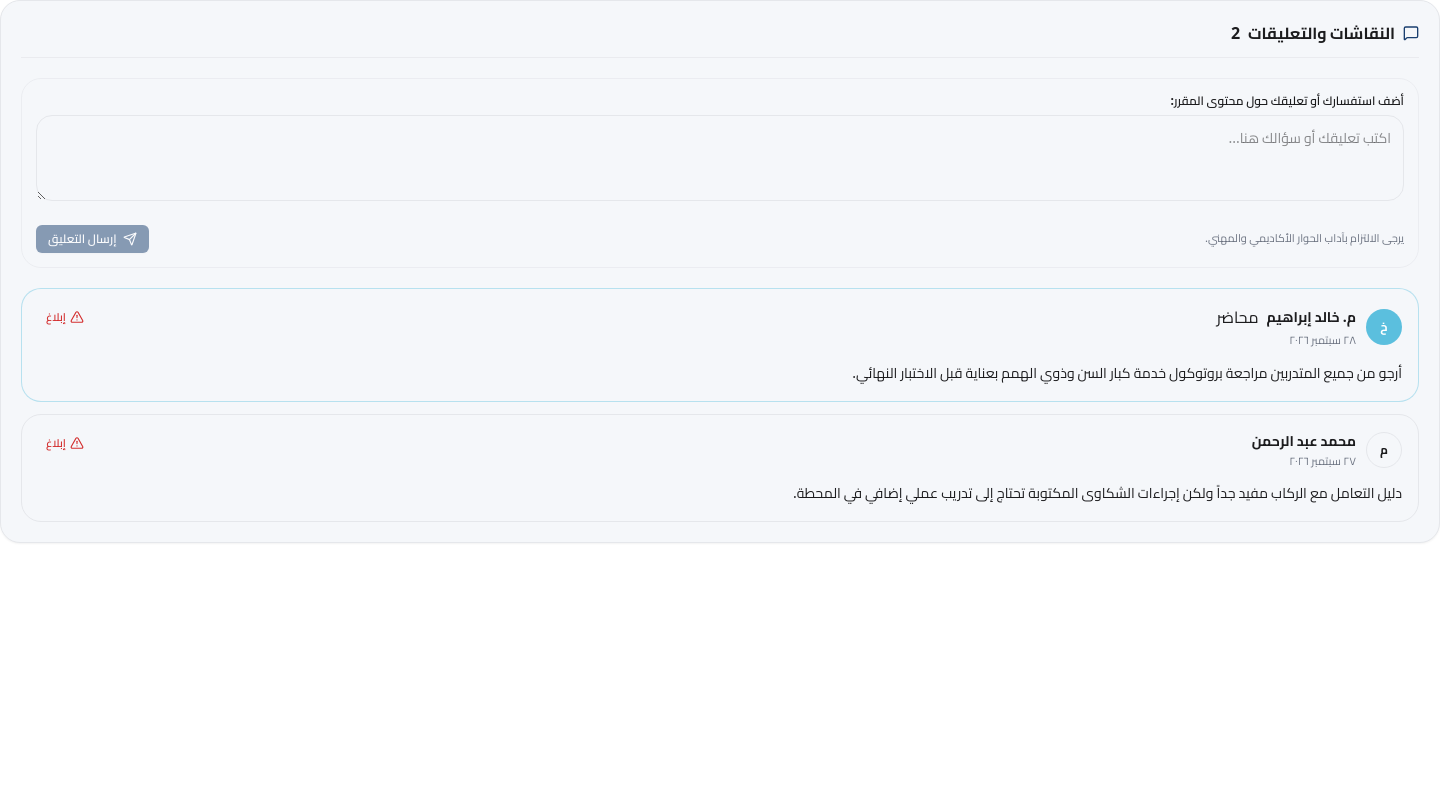
Test: Increment 11 — Phase 5C: Course Discussion UI & Reporting Dialog › 3. Comment Reporting Dialog & Workflow › opens reporting modal identifying the target comment with all canonical Arabic report reasons
The image size is (1440, 810).
Expected: the element with test id "comment-card-CMT005" is shown, [21,288,1419,402]
Note: Click report action on CMT005
What coordinates should you click on to do the following:
click the button with test id "report-comment-btn-CMT005"
I would click on:
 (65, 317)
Its box is [38,305,92,330].
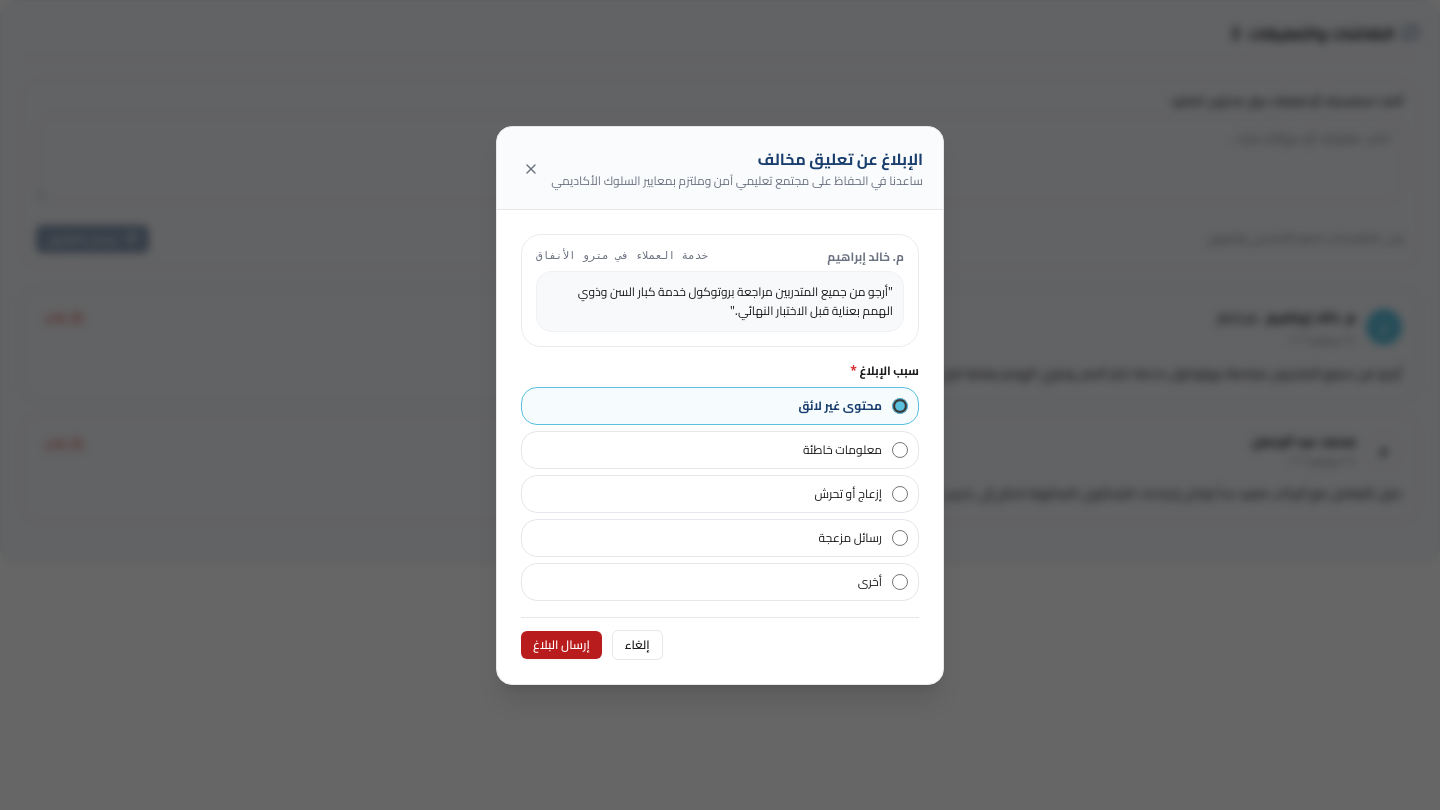
Now the dialog with test id "report-comment-modal" is shown
Now the heading "الإبلاغ عن تعليق مخالف" is shown, box [758,144,923,174]
Now the element with test id "comment-preview" shows "م. خالد إبراهيم", box [827,244,904,268]
